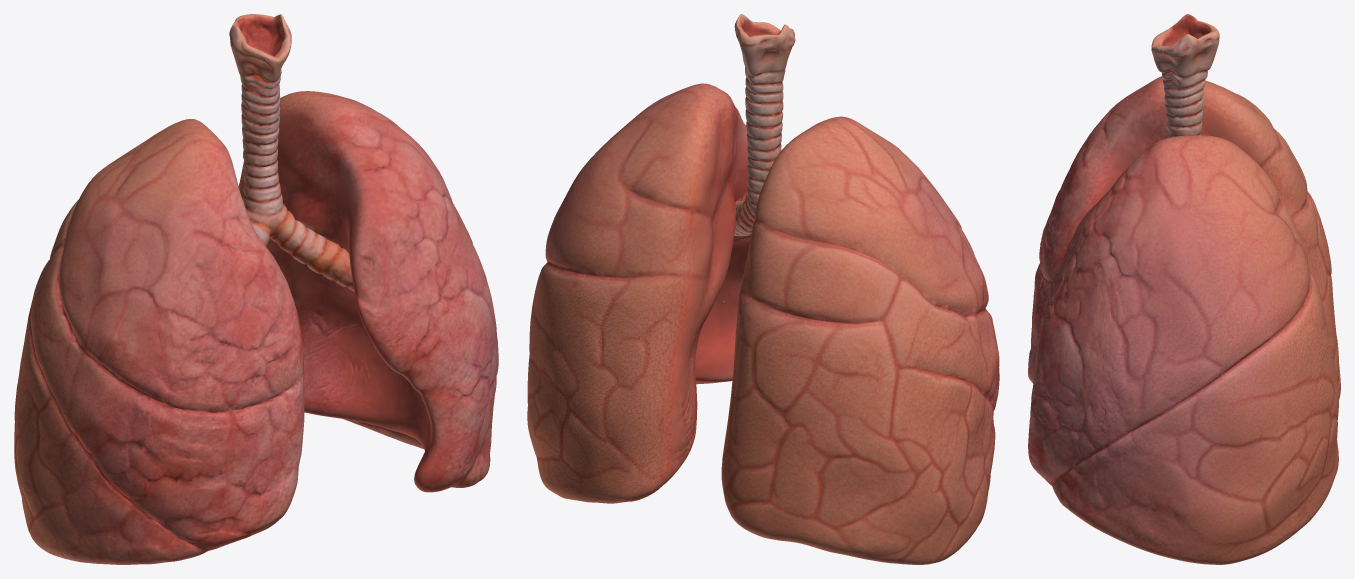
The model's file is lungs.glb.
3 views of the same model, side by side, from view 1: azimuth 30°, elevation 25°; view 2: azimuth 150°, elevation 25°; view 3: azimuth 270°, elevation 25° (orthographic). The views are drawn at different scales.
Parts seen in each view (by area): view 1: tripo_node_a2c7b654-b225-4f4d-9d04-c8d7d752252c; view 2: tripo_node_a2c7b654-b225-4f4d-9d04-c8d7d752252c; view 3: tripo_node_a2c7b654-b225-4f4d-9d04-c8d7d752252c.
Boxes of the visible parts, left/top/right/bottom form: tripo_node_a2c7b654-b225-4f4d-9d04-c8d7d752252c: left=14, top=14, right=498, bottom=564; tripo_node_a2c7b654-b225-4f4d-9d04-c8d7d752252c: left=527, top=14, right=999, bottom=564; tripo_node_a2c7b654-b225-4f4d-9d04-c8d7d752252c: left=1028, top=14, right=1340, bottom=564.
Size of the model in its own units: 0.9024 by 0.9793 by 0.6131.
1 material, 1 textured.
